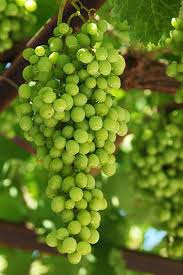grapes: (21, 24, 122, 270)
